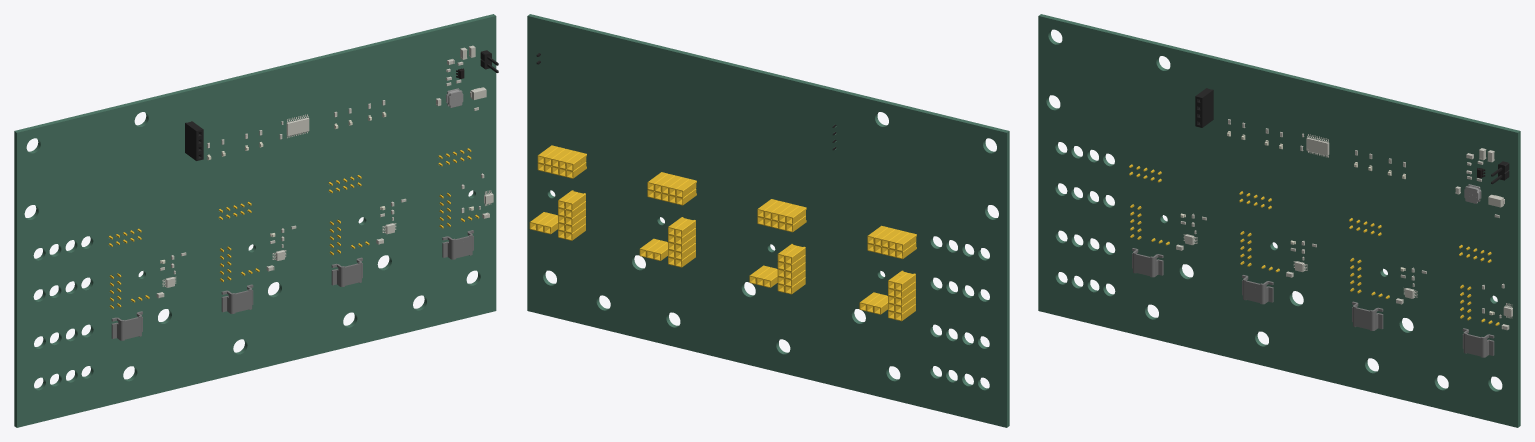
Rendered from bmu-v2-full.glb.
The picture shows the model from 3 angles, left to right: view 1: azimuth 30°, elevation 25°; view 2: azimuth 150°, elevation 25°; view 3: azimuth 330°, elevation 25°; orthographic projection.
Parts seen in each view (by area): view 1: =>[0:1:1:36], =>[0:1:1:15]_1, =>[0:1:1:15], =>[0:1:1:15]_2, =>[0:1:1:15]_3, =>[0:1:1:27]; view 2: =>[0:1:1:36], =>[0:1:1:35]_4, =>[0:1:1:35]_2, =>[0:1:1:35]_1, =>[0:1:1:35]_3, =>[0:1:1:35]_7, =>[0:1:1:35]_6, =>[0:1:1:35]_5, =>[0:1:1:35], =>[0:1:1:33]_3, =>[0:1:1:33]_2, =>[0:1:1:33]_1 (+1 smaller); view 3: =>[0:1:1:36], =>[0:1:1:15], =>[0:1:1:15]_1, =>[0:1:1:15]_2, =>[0:1:1:15]_3, =>[0:1:1:27].
Boxes of the visible parts, x1,y1,x2,y2 form: =>[0:1:1:36]: (14,14,496,427); =>[0:1:1:15]_1: (221,284,253,313); =>[0:1:1:15]: (442,230,473,259); =>[0:1:1:15]_2: (111,311,142,340); =>[0:1:1:15]_3: (331,257,362,286); =>[0:1:1:27]: (185,121,203,160); =>[0:1:1:36]: (527,14,1009,427); =>[0:1:1:35]_4: (777,244,805,294); =>[0:1:1:35]_2: (537,145,586,178); =>[0:1:1:35]_1: (867,225,916,259); =>[0:1:1:35]_3: (647,172,696,205); =>[0:1:1:35]_7: (757,199,806,232); =>[0:1:1:35]_6: (888,270,915,321); =>[0:1:1:35]_5: (558,190,585,240); =>[0:1:1:35]: (668,217,695,267); =>[0:1:1:33]_3: (859,292,887,314); =>[0:1:1:33]_2: (529,212,558,234); =>[0:1:1:33]_1: (639,238,667,260); =>[0:1:1:36]: (1038,14,1520,427); =>[0:1:1:15]: (1462,328,1494,357); =>[0:1:1:15]_1: (1242,275,1273,304); =>[0:1:1:15]_2: (1132,248,1163,277); =>[0:1:1:15]_3: (1352,301,1383,330); =>[0:1:1:27]: (1195,88,1213,127).
Bounding box in the file's own units: 0.17 × 0.1 × 0.0187.
